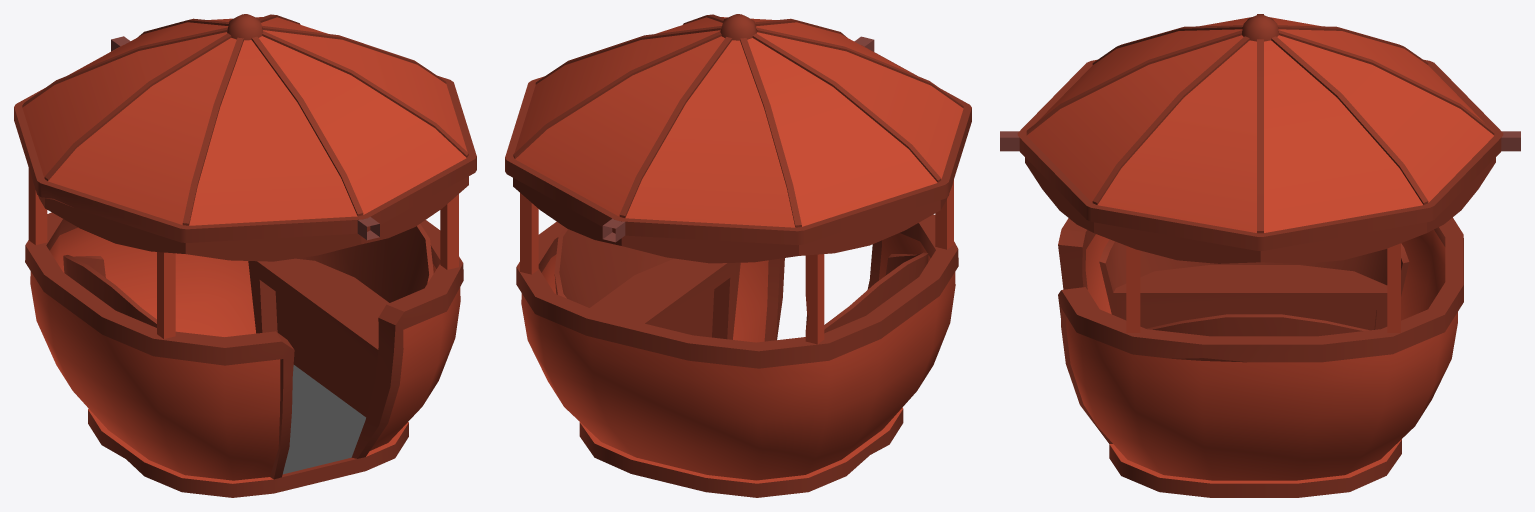
The model's file is SM_Props_Park_02_Cabin_01.fbx.
3 views of the same model, side by side, from view 1: azimuth 30°, elevation 25°; view 2: azimuth 150°, elevation 25°; view 3: azimuth 270°, elevation 25° (orthographic).
Parts seen in each view (by area): view 1: SM_Props_Park_02_Cabin_01; view 2: SM_Props_Park_02_Cabin_01; view 3: SM_Props_Park_02_Cabin_01.
Part boxes in pixels (x1=…): SM_Props_Park_02_Cabin_01: x1=14, y1=14, x2=476, y2=497; SM_Props_Park_02_Cabin_01: x1=505, y1=14, x2=971, y2=497; SM_Props_Park_02_Cabin_01: x1=1000, y1=14, x2=1520, y2=497.
Bounding box in the file's own units: 3.17 × 3.02 × 3.4.
